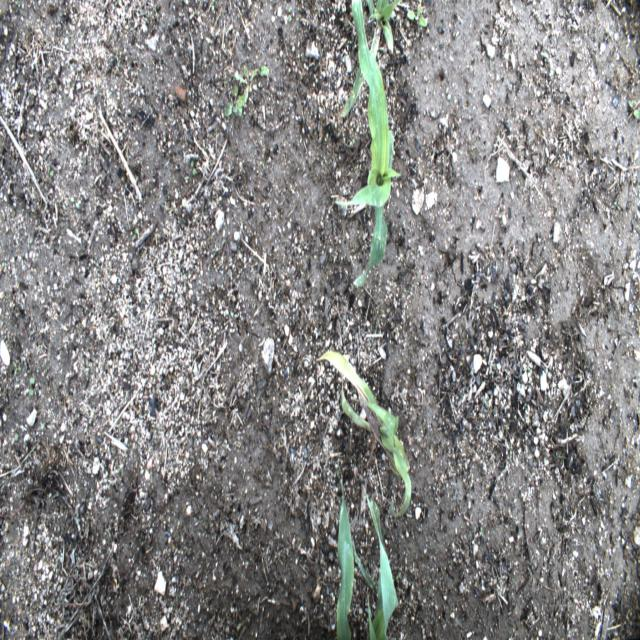crop: (333, 0, 402, 288), (315, 350, 413, 518), (336, 472, 398, 638), (339, 0, 402, 117)
weed: (238, 65, 270, 103), (225, 85, 242, 117), (407, 4, 427, 27), (628, 99, 640, 121), (189, 157, 198, 178), (28, 375, 35, 396), (612, 199, 622, 212), (13, 361, 21, 376), (48, 164, 55, 178), (13, 426, 19, 442), (287, 6, 292, 23), (394, 572, 402, 582), (133, 226, 138, 241), (115, 46, 119, 60), (14, 0, 21, 8), (126, 630, 131, 639), (296, 13, 301, 21), (54, 564, 58, 573)
